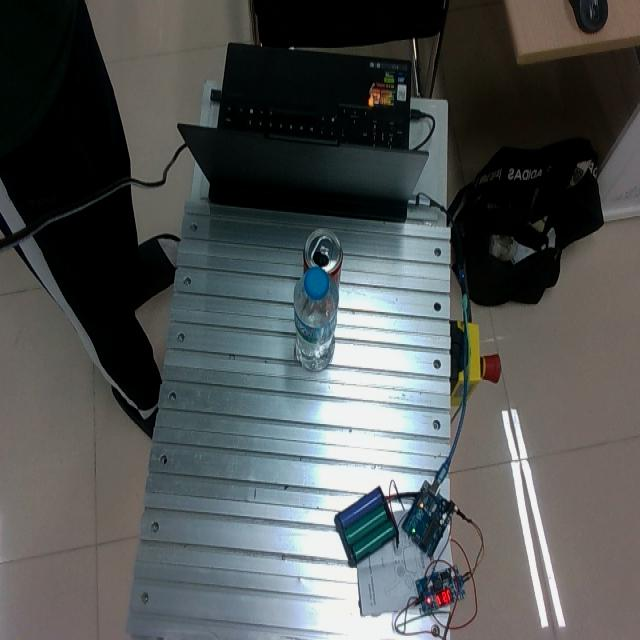coca: (303, 228, 344, 293)
lavie: (293, 262, 340, 370)
